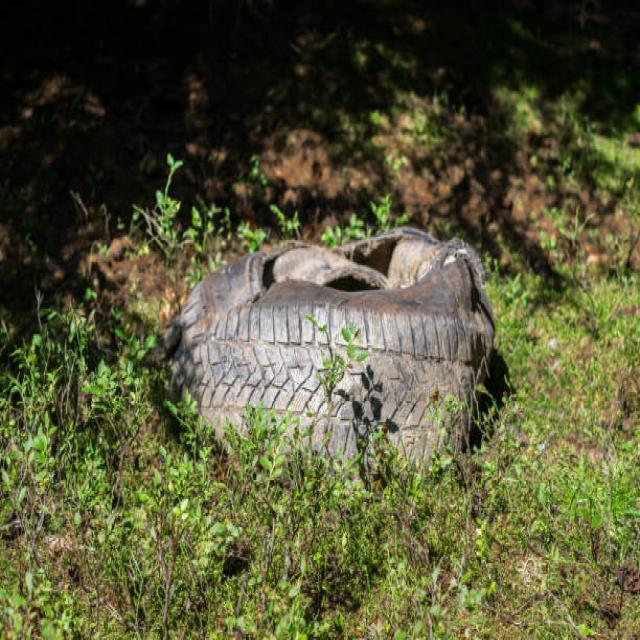tire: (166, 224, 495, 496)
